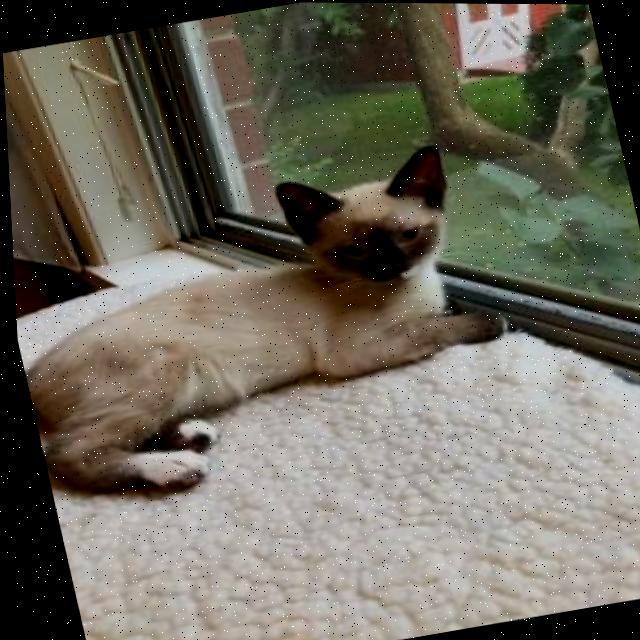Siamese: (5, 118, 542, 513)
